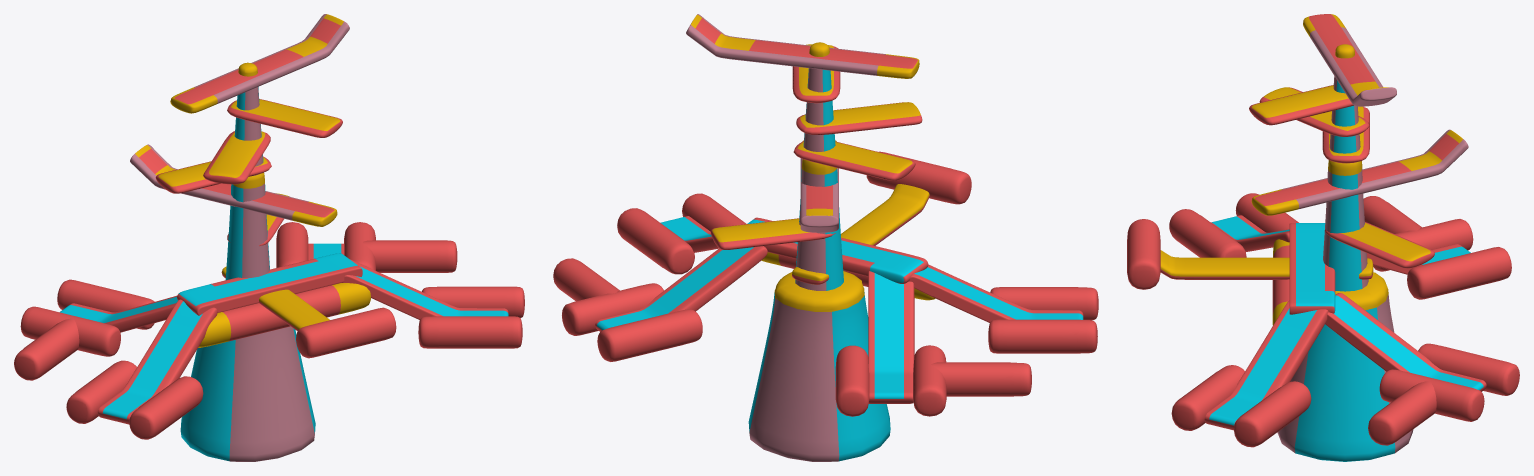
Rendered from PlataformaVertical.fbx.
3 views of the same model, side by side, from view 1: azimuth 30°, elevation 25°; view 2: azimuth 150°, elevation 25°; view 3: azimuth 270°, elevation 25° (orthographic). The views are drawn at different scales.
Visible parts, largest first — view 1: pCube52, pCube41, pCube23, pCube39, pCube28, pCube29, pCube51, pCube46, pCube30, pCube40, pCube73, pCube44 (+13 smaller); view 2: pCube52, pCube27, pCube39, pCube26, pCube43, pCube41, pCube33, pCube42, pCube25, pCube51, pCube23, pCube45 (+15 smaller); view 3: pCube52, pCube40, pCube29, pCube26, pCube51, pCube23, pCube39, pCube31, pCube25, pCube45, pCube34, pCube33 (+15 smaller).
Part boxes in pixels (left/top/right/bottom): pCube52: left=180, top=326, right=315, bottom=461; pCube41: left=97, top=299, right=217, bottom=424; pCube23: left=177, top=253, right=362, bottom=315; pCube39: left=170, top=14, right=349, bottom=113; pCube28: left=198, top=283, right=370, bottom=347; pCube29: left=130, top=144, right=337, bottom=226; pCube51: left=225, top=172, right=269, bottom=280; pCube46: left=418, top=316, right=522, bottom=348; pCube30: left=296, top=307, right=396, bottom=358; pCube40: left=342, top=259, right=508, bottom=319; pCube73: left=363, top=240, right=457, bottom=272; pCube44: left=129, top=376, right=203, bottom=439; pCube52: left=748, top=271, right=890, bottom=461; pCube27: left=868, top=271, right=914, bottom=403; pCube39: left=686, top=14, right=919, bottom=78; pCube26: left=595, top=246, right=767, bottom=331; pCube43: left=988, top=319, right=1097, bottom=353; pCube41: left=909, top=264, right=1083, bottom=322; pCube33: left=597, top=309, right=702, bottom=361; pCube42: left=931, top=362, right=1031, bottom=396; pCube25: left=792, top=184, right=929, bottom=284; pCube51: left=795, top=159, right=843, bottom=290; pCube23: left=747, top=217, right=928, bottom=283; pCube45: left=617, top=208, right=694, bottom=274; pCube52: left=1277, top=272, right=1413, bottom=461; pCube40: left=1204, top=300, right=1328, bottom=430; pCube29: left=1251, top=129, right=1468, bottom=215; pCube26: left=1325, top=293, right=1486, bottom=391; pCube51: left=1323, top=160, right=1368, bottom=291; pCube23: left=1289, top=223, right=1335, bottom=314; pCube39: left=1303, top=14, right=1396, bottom=106; pCube31: left=1407, top=247, right=1511, bottom=299; pCube25: left=1160, top=250, right=1373, bottom=279; pCube45: left=1234, top=381, right=1311, bottom=447; pCube34: left=1379, top=369, right=1484, bottom=421; pCube33: left=1418, top=343, right=1519, bottom=395.
Bounding box in the file's own units: 19.58 × 15.79 × 13.98.
